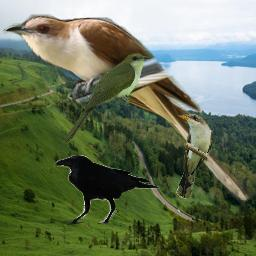Crow: (54, 155, 160, 226)
Cuckoo: (3, 14, 253, 206), (63, 53, 151, 145), (176, 114, 213, 199)
